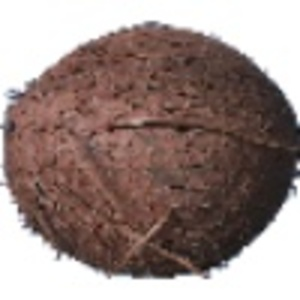coco: (1, 23, 300, 280)
